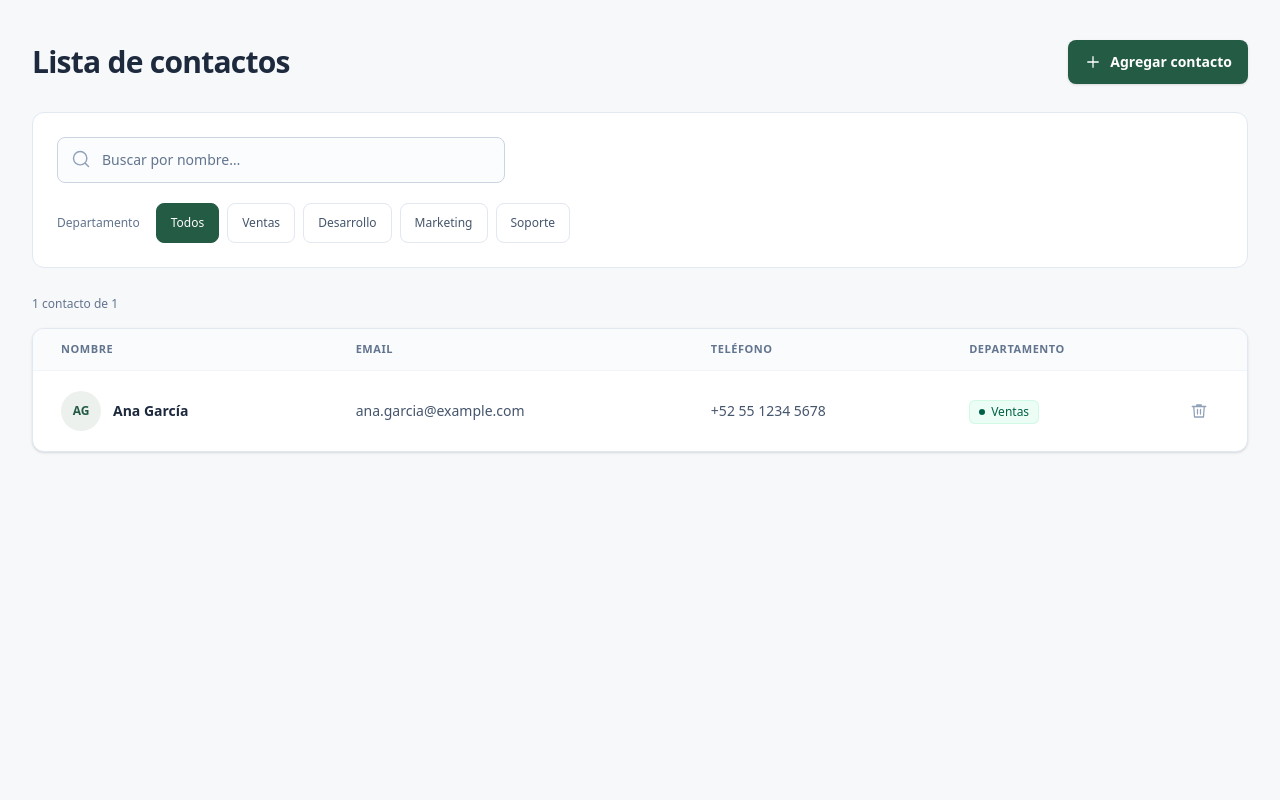
Scenario: muestra el estado sin contactos tras eliminar el último
The width and height of the screenshot is (1280, 800).
What coordinates should you click on to do the following:
click the button named "Eliminar a Ana García"
I would click on:
 (1199, 410)
Its box is [1179,390,1219,430].
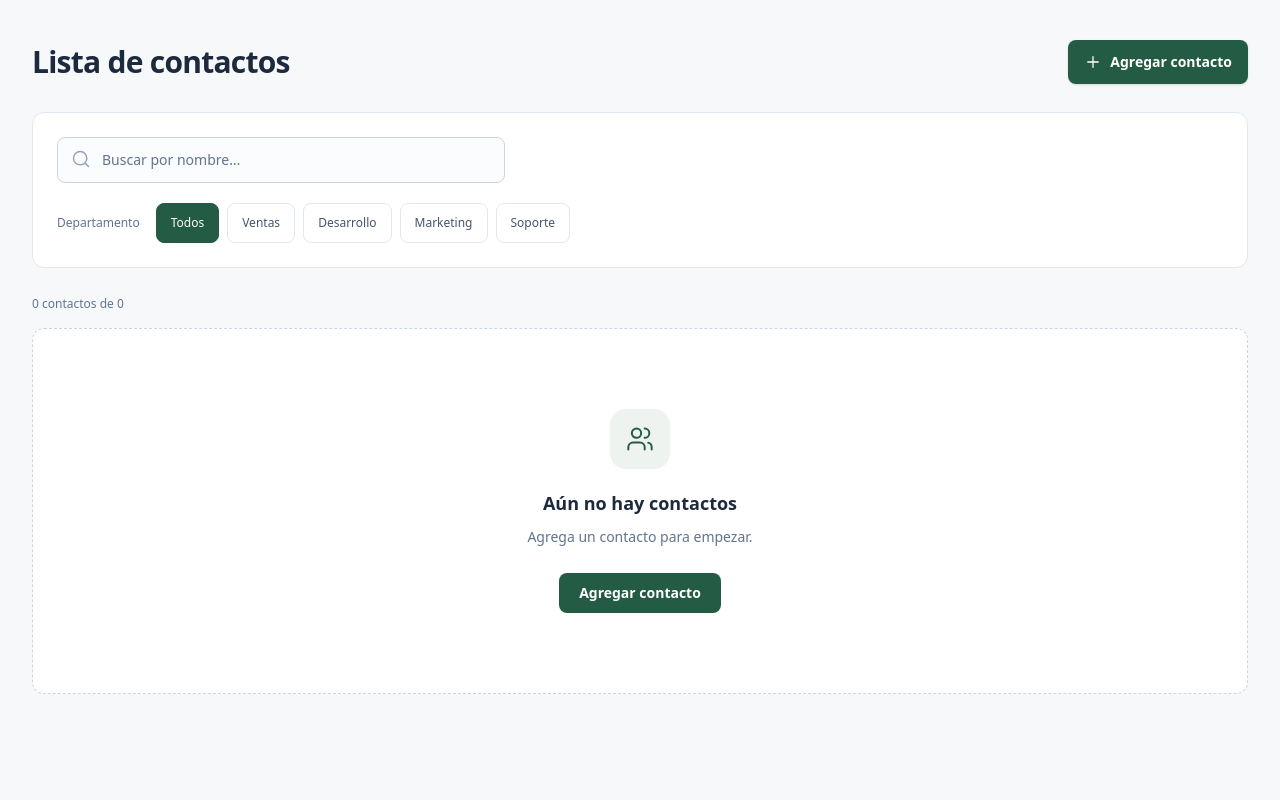
Check: the heading "Aún no hay contactos" is shown, box [543,489,737,517]
Check: the message reads "0 contactos de 0", box [32,295,124,312]
